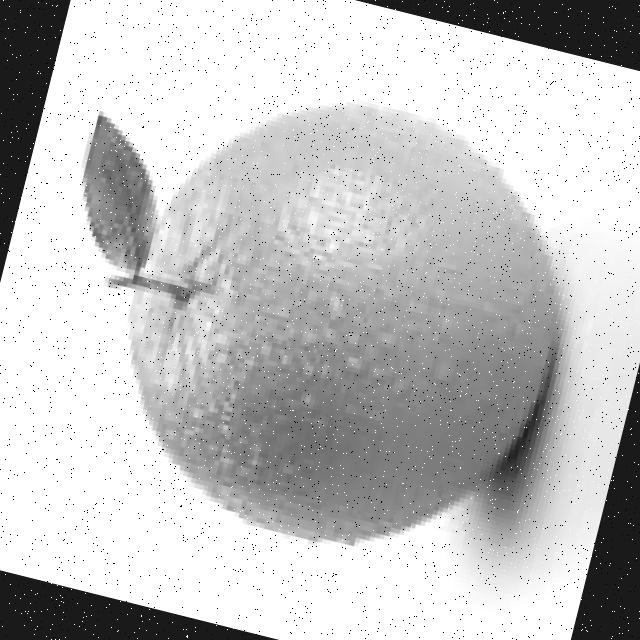Ripe: (64, 45, 610, 602)
